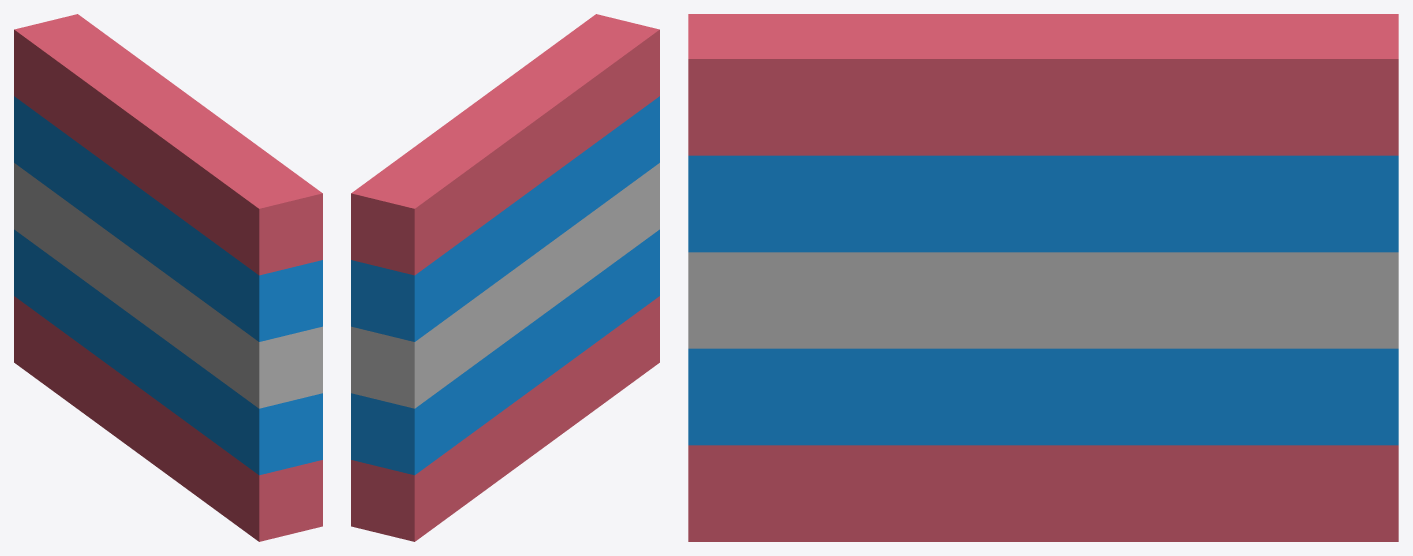
The model's file is trans.obj.
The picture shows the model from 3 angles, left to right: view 1: azimuth 30°, elevation 25°; view 2: azimuth 150°, elevation 25°; view 3: azimuth 270°, elevation 25°; orthographic projection. The views are drawn at different scales.
Parts seen in each view (by area): view 1: Cube.002, Cube.003, Cube, Cube.001, Cube.004; view 2: Cube.002, Cube.003, Cube, Cube.001, Cube.004; view 3: Cube.002, Cube.001, Cube.003, Cube, Cube.004.
Boxes of the visible parts, x1,y1,x2,y2 form: Cube.002: [14, 14, 322, 275]; Cube.003: [14, 229, 322, 475]; Cube: [14, 163, 322, 408]; Cube.001: [14, 96, 322, 341]; Cube.004: [14, 296, 322, 541]; Cube.002: [351, 14, 659, 275]; Cube.003: [351, 229, 659, 475]; Cube: [351, 163, 659, 408]; Cube.001: [351, 96, 659, 341]; Cube.004: [351, 296, 659, 541]; Cube.002: [688, 14, 1398, 155]; Cube.001: [688, 155, 1398, 252]; Cube.003: [688, 348, 1398, 445]; Cube: [688, 252, 1398, 348]; Cube.004: [688, 445, 1398, 541].
Size of the model in its own units: 0.6 by 3 by 4.
